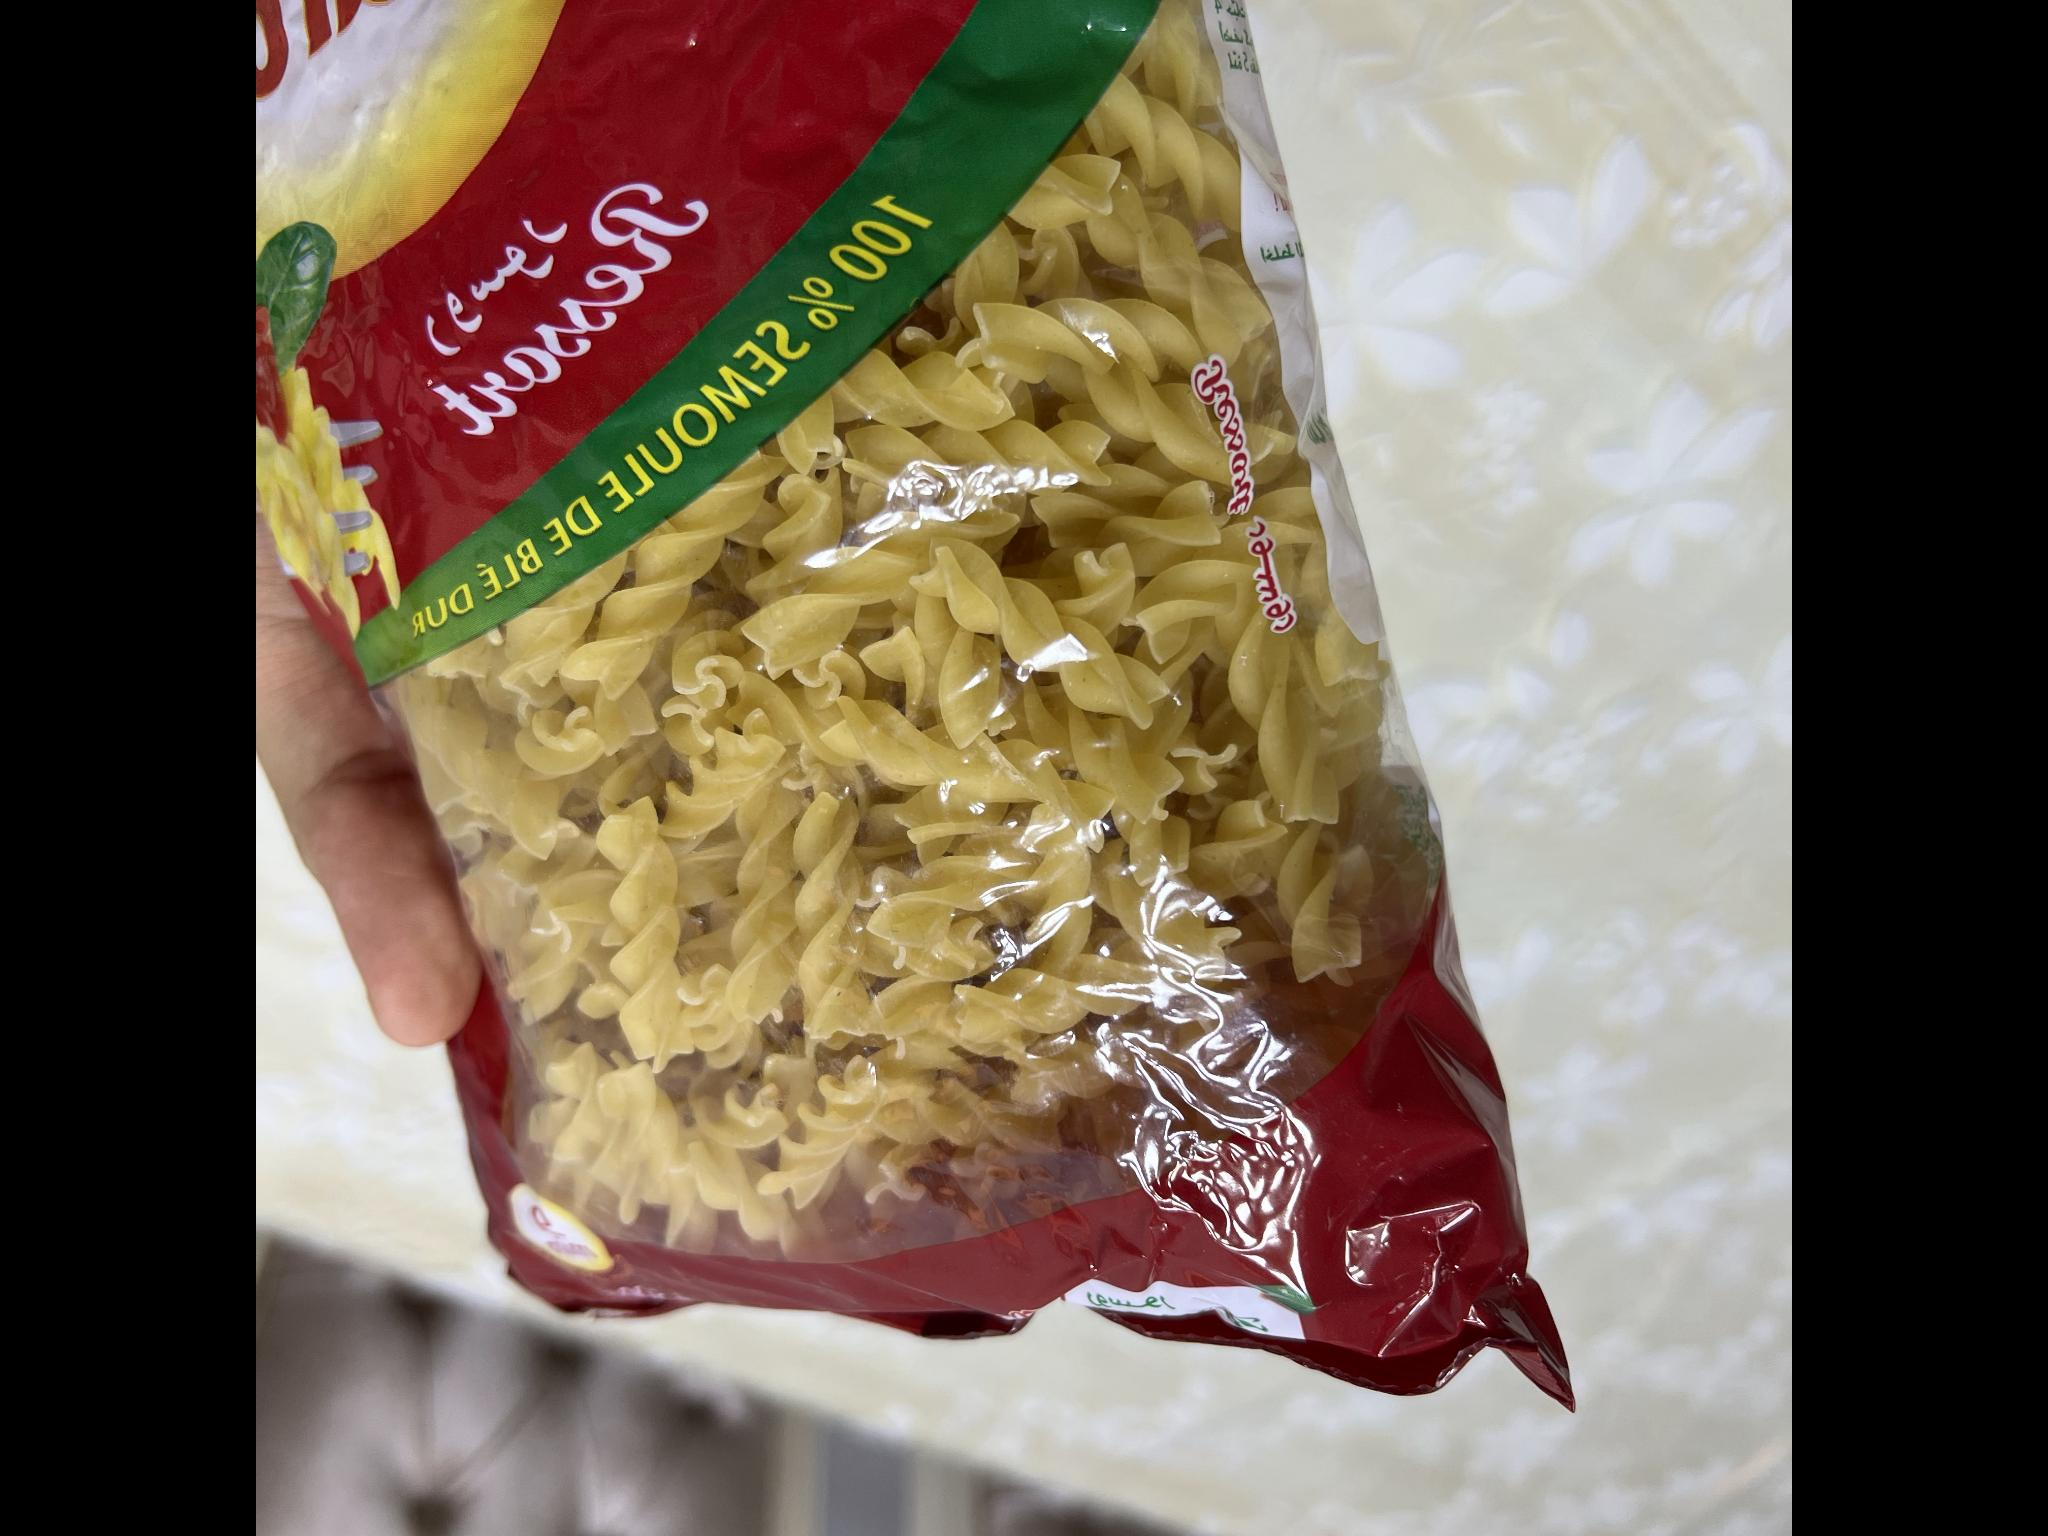Ressort: (282, 0, 1522, 1324)
